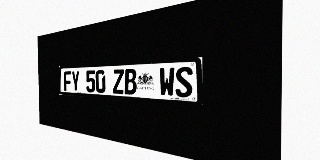0: (95, 70, 105, 93)
5: (86, 70, 95, 93)
B: (124, 69, 137, 95)
F: (64, 71, 71, 91)
S: (175, 67, 193, 98)
W: (159, 67, 175, 97)
Y: (71, 71, 80, 92)
Z: (113, 69, 124, 94)
